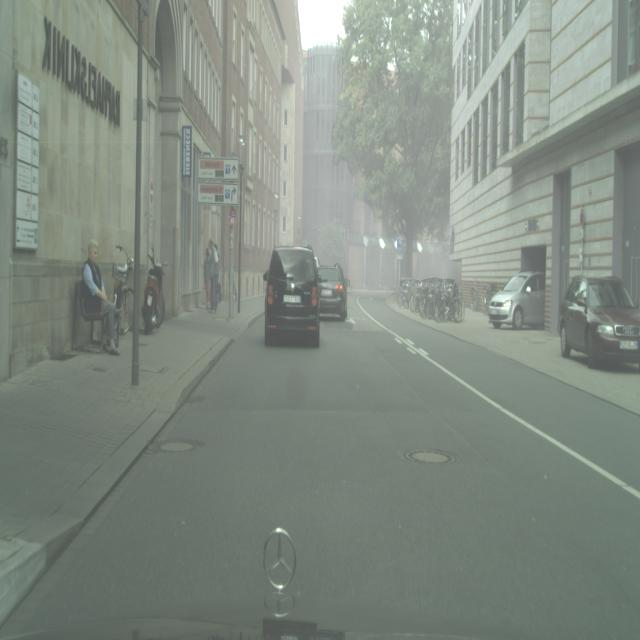bus: (558, 274, 640, 369), (263, 244, 320, 348), (488, 271, 546, 329), (317, 264, 348, 321)
car: (111, 242, 134, 334), (398, 278, 412, 308)
person: (82, 239, 120, 354), (210, 240, 220, 311), (203, 244, 212, 310)
truck: (141, 248, 171, 333)
